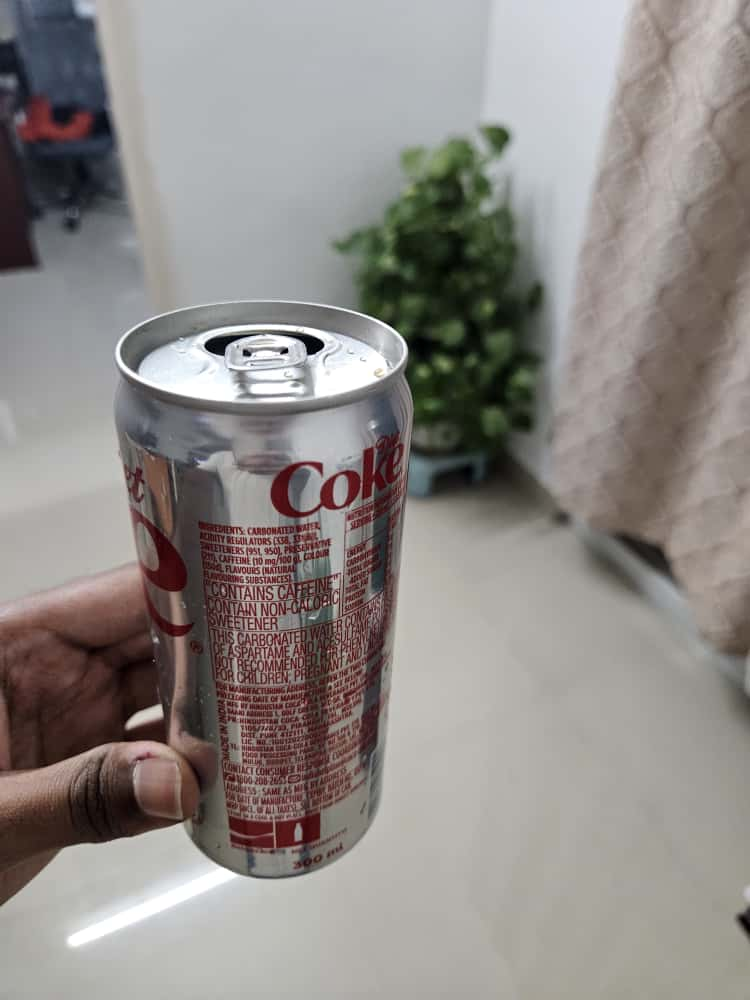dry: (99, 289, 454, 893)
